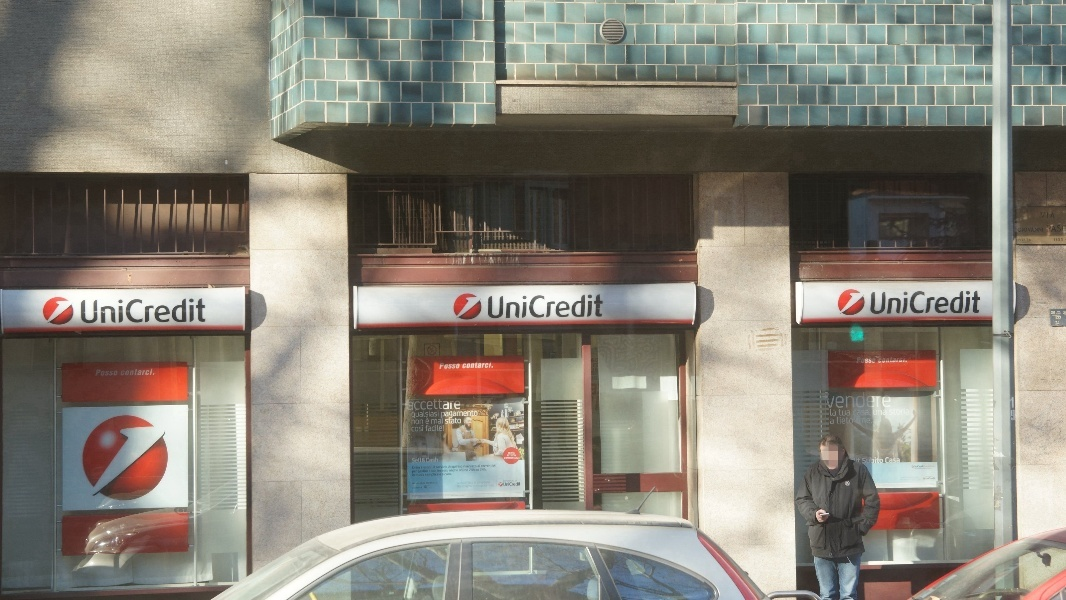text: (81, 298, 96, 325), (97, 298, 112, 325), (113, 298, 128, 325), (129, 298, 144, 325), (145, 298, 160, 325), (161, 298, 176, 325), (177, 298, 192, 325), (193, 298, 207, 325), (497, 294, 512, 319), (513, 294, 528, 319), (529, 294, 544, 319), (545, 294, 560, 319), (561, 294, 576, 319), (577, 294, 592, 319), (881, 291, 896, 315), (897, 291, 912, 315), (913, 291, 928, 315), (929, 291, 944, 315), (945, 291, 960, 315), (961, 291, 976, 315), (593, 294, 605, 319), (833, 391, 848, 409), (849, 391, 864, 409), (865, 391, 880, 409), (881, 391, 892, 409), (872, 291, 880, 315), (417, 399, 432, 411), (433, 399, 448, 411), (489, 294, 496, 319), (449, 410, 464, 420), (449, 399, 461, 411), (465, 410, 478, 420), (825, 391, 832, 409), (417, 411, 432, 419), (417, 482, 432, 490), (433, 482, 448, 490), (449, 482, 464, 490), (465, 482, 480, 490), (481, 482, 496, 490), (897, 408, 911, 416), (97, 369, 112, 376), (129, 369, 144, 376), (465, 362, 480, 369), (977, 291, 981, 315), (481, 362, 494, 369), (417, 458, 432, 464), (881, 357, 896, 363), (865, 458, 880, 464), (449, 363, 461, 370), (409, 399, 416, 411), (1041, 212, 1055, 218), (838, 417, 848, 425), (449, 419, 462, 425), (145, 369, 156, 376), (433, 418, 444, 425), (433, 425, 444, 432), (865, 357, 876, 364), (853, 410, 864, 417), (1025, 228, 1040, 233), (897, 357, 909, 363), (1047, 225, 1056, 233), (1057, 225, 1066, 233), (441, 410, 448, 420), (885, 457, 896, 463), (839, 409, 848, 416), (449, 465, 464, 469), (433, 411, 440, 419), (417, 425, 424, 433), (482, 464, 496, 468), (418, 470, 432, 474), (889, 408, 896, 416), (865, 417, 873, 424), (441, 363, 448, 370), (865, 410, 872, 417), (857, 417, 864, 424), (465, 465, 477, 469), (503, 482, 512, 487), (481, 468, 496, 471), (437, 465, 448, 469), (122, 369, 128, 376), (426, 425, 432, 432), (426, 418, 432, 425), (434, 466, 448, 469), (450, 469, 464, 472), (858, 357, 864, 364), (881, 410, 888, 416), (513, 482, 521, 487), (438, 469, 448, 473), (856, 458, 864, 463), (849, 417, 854, 425), (433, 458, 439, 464), (874, 410, 880, 416), (113, 369, 118, 376), (417, 420, 424, 425), (901, 477, 912, 480), (412, 411, 416, 419), (412, 425, 416, 433), (412, 482, 416, 490), (833, 409, 837, 417), (1058, 316, 1066, 320), (1016, 238, 1024, 242), (470, 469, 480, 472), (425, 473, 432, 477), (929, 476, 936, 480), (1025, 238, 1032, 242), (913, 477, 922, 480), (915, 466, 928, 468), (1019, 228, 1024, 233), (412, 458, 416, 464), (424, 466, 432, 469), (417, 473, 425, 476), (433, 473, 439, 477), (421, 467, 432, 469), (505, 457, 512, 460), (1057, 238, 1064, 241), (412, 420, 416, 425), (1051, 311, 1056, 315), (445, 419, 448, 425), (503, 480, 512, 482), (513, 457, 519, 460), (881, 458, 884, 464), (897, 457, 900, 463), (417, 466, 421, 470), (433, 469, 437, 473), (440, 474, 448, 476), (443, 473, 448, 476), (1057, 321, 1060, 326), (1041, 228, 1044, 233), (929, 466, 936, 468), (849, 409, 851, 416), (508, 454, 512, 457), (513, 454, 517, 457), (413, 466, 416, 470), (412, 471, 416, 474), (460, 469, 464, 472), (465, 469, 469, 472), (862, 458, 864, 464), (833, 419, 835, 425), (1063, 311, 1066, 315), (513, 480, 518, 482), (509, 452, 512, 455), (449, 473, 452, 476), (430, 469, 432, 473), (476, 469, 480, 471), (412, 474, 416, 476), (926, 476, 928, 480), (831, 409, 832, 417), (463, 362, 464, 369), (431, 418, 432, 425), (513, 452, 515, 455), (879, 357, 880, 363), (831, 419, 832, 425), (1054, 238, 1056, 241), (1055, 321, 1056, 326), (431, 469, 432, 473), (479, 465, 480, 468), (417, 471, 418, 474)
